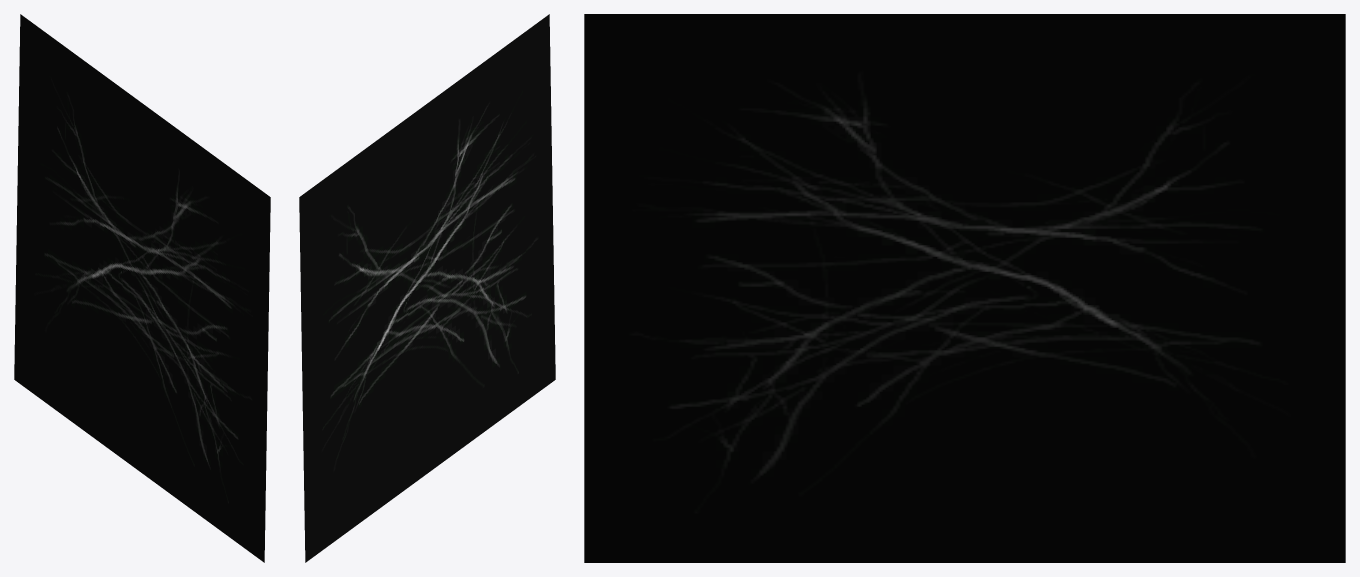
Rendered from MIRKWOOD_WEB_DECOR05.fbx.
The picture shows the model from 3 angles, left to right: view 1: azimuth 30°, elevation 25°; view 2: azimuth 150°, elevation 25°; view 3: azimuth 270°, elevation 25°; orthographic projection. The views are drawn at different scales.
Parts seen in each view (by area): view 1: MIRKWOOD_WEB_DECOR05; view 2: MIRKWOOD_WEB_DECOR05; view 3: MIRKWOOD_WEB_DECOR05.
Boxes of the visible parts, x1,y1,x2,y2 form: MIRKWOOD_WEB_DECOR05: (14,14,270,562); MIRKWOOD_WEB_DECOR05: (299,14,555,562); MIRKWOOD_WEB_DECOR05: (584,14,1345,562).
Bounding box in the file's own units: 1249 × 70853 × 88284.
Materials: 1 (1 with a texture image).
